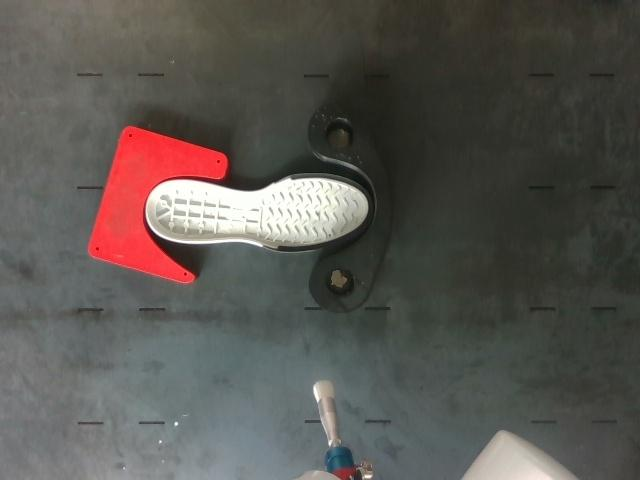shoes: (147, 174, 373, 252)
